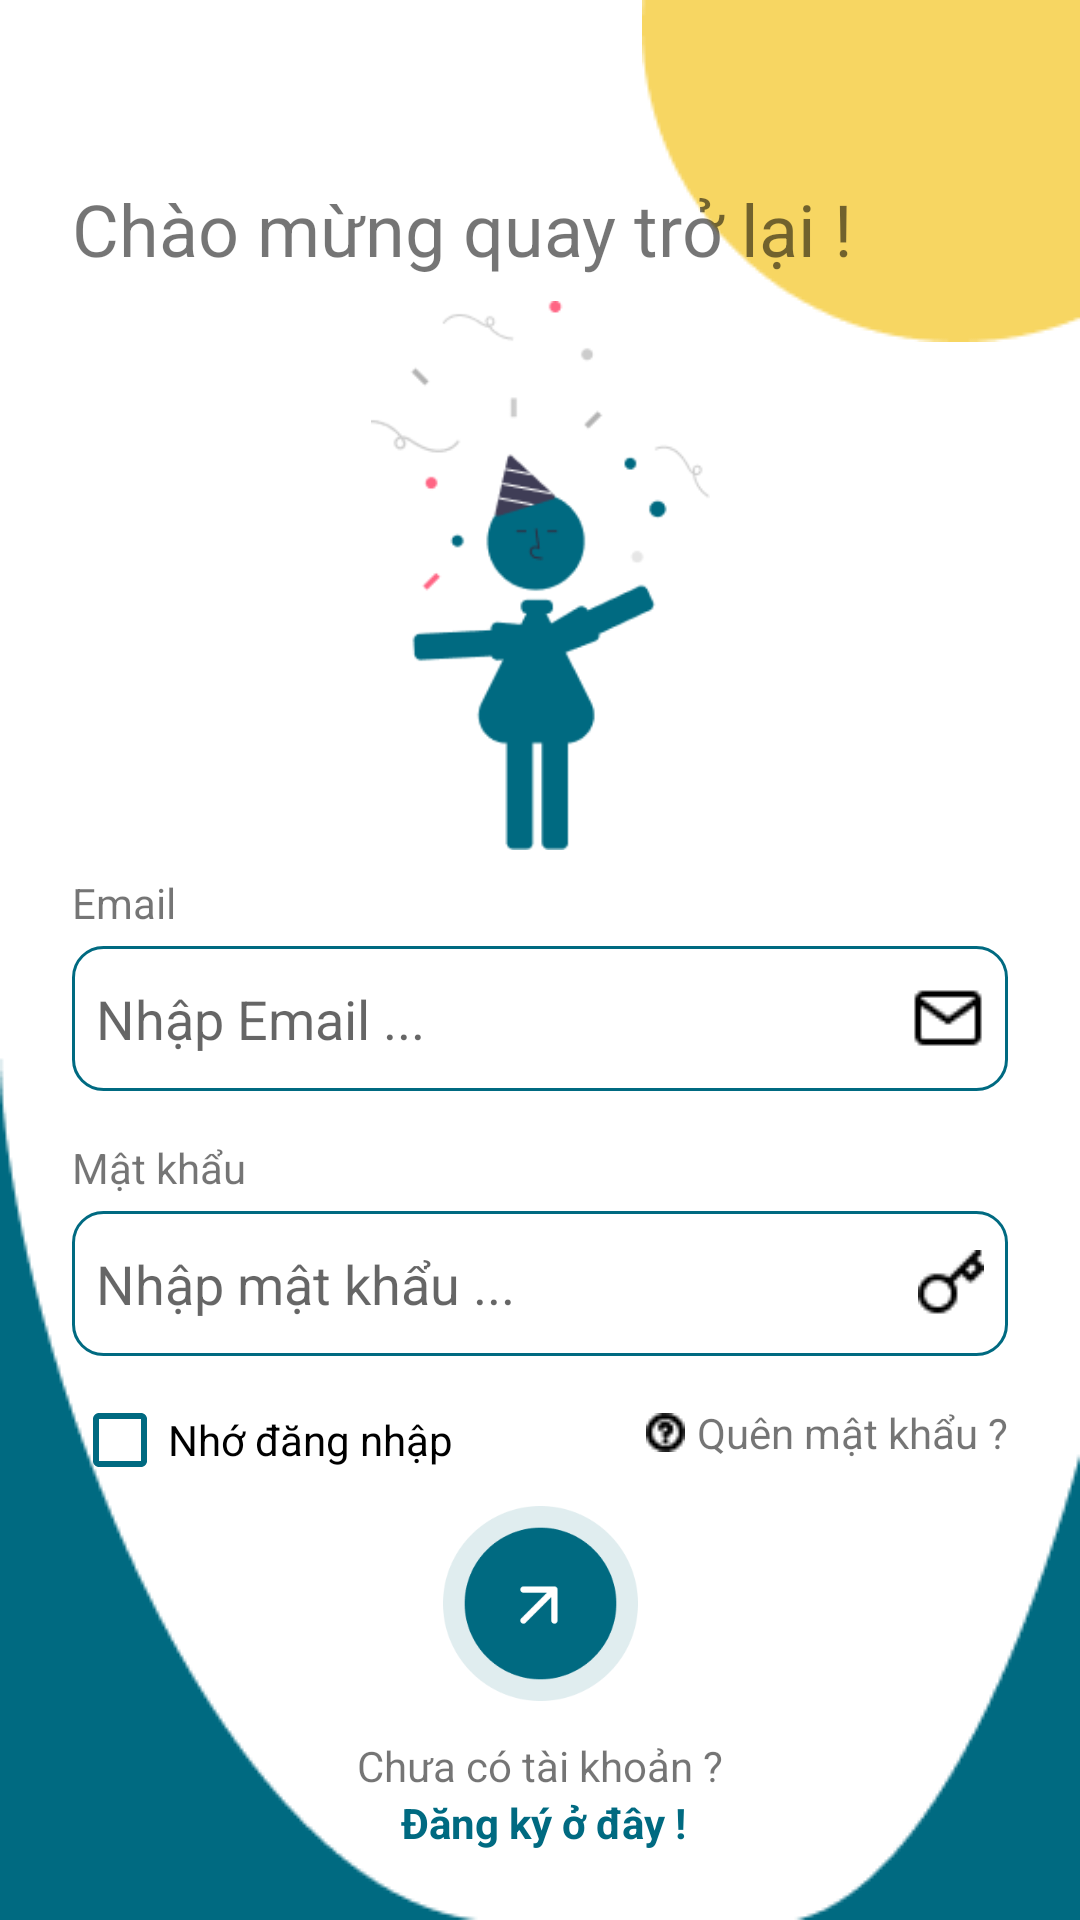

Named icons in this screenshot (1080 x 1920) and their bounding boxes, (x1, y1, x2, y2):
forward: (443, 1506, 638, 1701)
